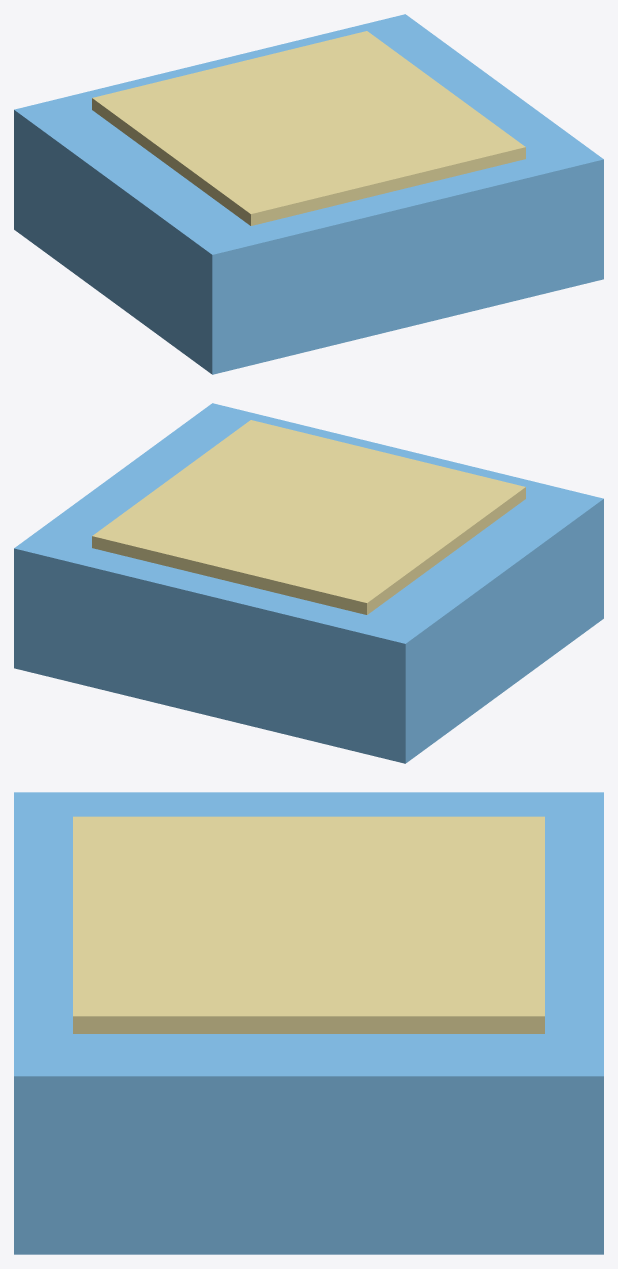
Rendered from Prop_Pet_AMF_Bowl_V2.glb.
The picture shows the model from 3 angles, top to bottom: view 1: azimuth 30°, elevation 25°; view 2: azimuth 150°, elevation 25°; view 3: azimuth 270°, elevation 25°; orthographic projection. The views are drawn at different scales.
Visible parts, largest first — view 1: Prop_Pet_AMF_Bowl_V2; view 2: Prop_Pet_AMF_Bowl_V2; view 3: Prop_Pet_AMF_Bowl_V2.
Boxes of the visible parts, x1,y1,x2,y2 form: Prop_Pet_AMF_Bowl_V2: [14, 14, 603, 374]; Prop_Pet_AMF_Bowl_V2: [14, 403, 603, 763]; Prop_Pet_AMF_Bowl_V2: [14, 792, 603, 1254].
Bounding box in the file's own units: 0.3417 × 0.11 × 0.3.
